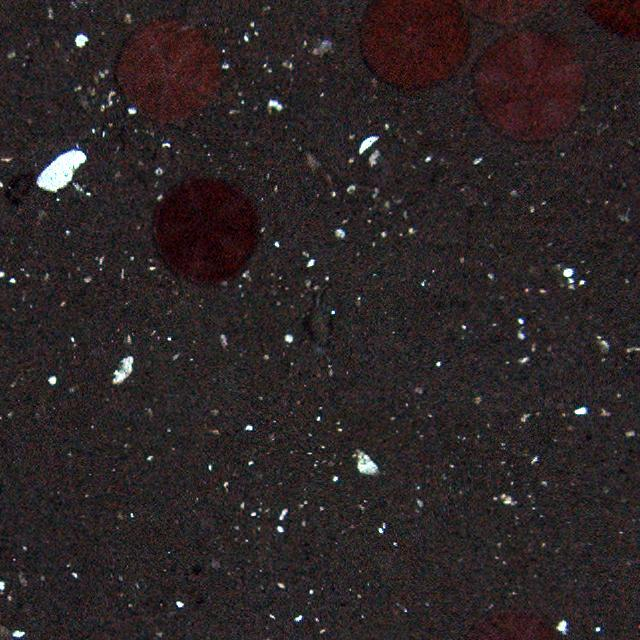whelk: (296, 300, 336, 352)
